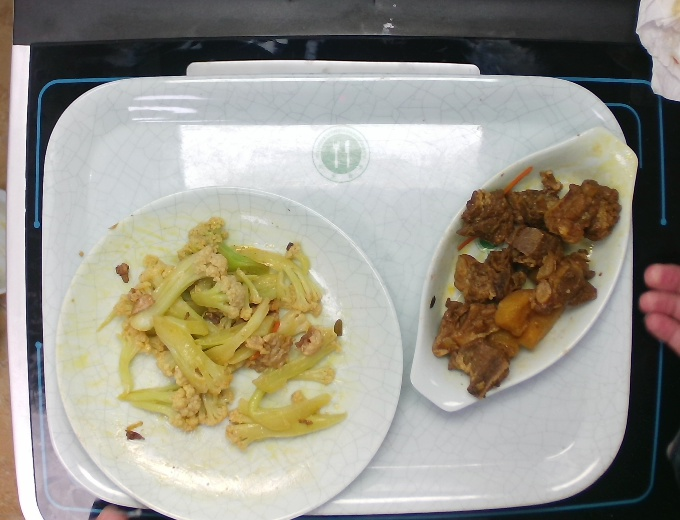JYsf-Da_Yuan_Pan: (52, 184, 406, 520)
JYsf-Yu_Pan: (407, 124, 640, 414)
